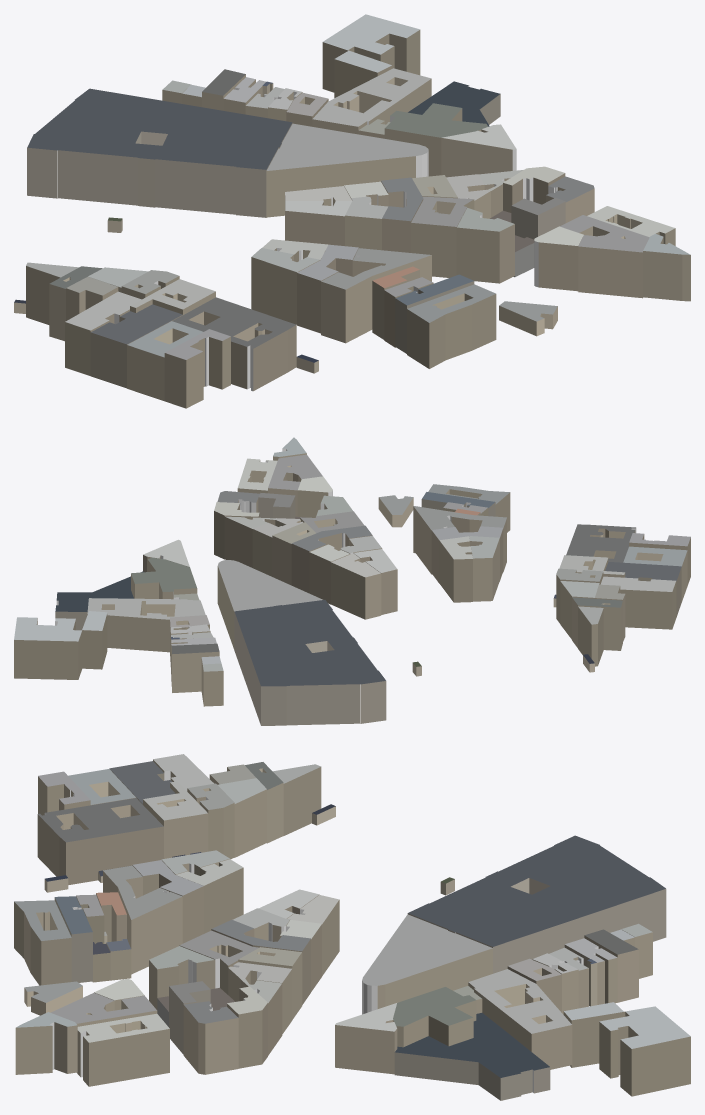
3 views of the same model, one above another, from view 1: azimuth 30°, elevation 25°; view 2: azimuth 150°, elevation 25°; view 3: azimuth 270°, elevation 25° (orthographic). The views are drawn at different scales.
Parts seen in each view (by area): view 1: tuile; view 2: tuile; view 3: tuile.
Part boxes in pixels (x1,y1,x2,y2): tuile: (14,14,690,408); tuile: (14,437,690,725); tuile: (14,754,690,1100).
Bounding box in the file's own units: 288 × 29.29 × 281.
